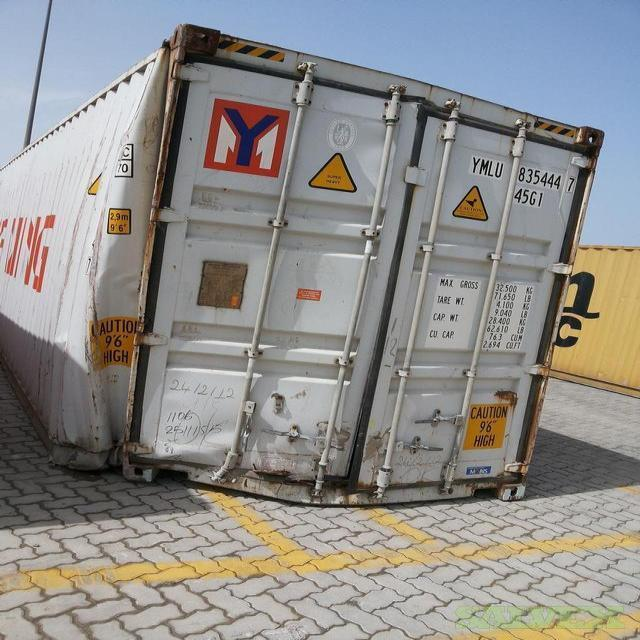hole: (41, 241, 219, 496), (86, 29, 256, 233), (240, 395, 406, 503)
rust: (474, 369, 536, 407)
